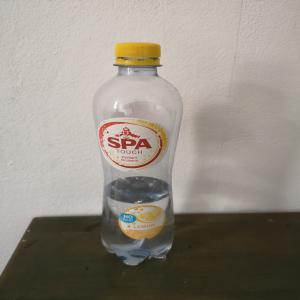Plastic-bottle: (91, 39, 192, 269)
